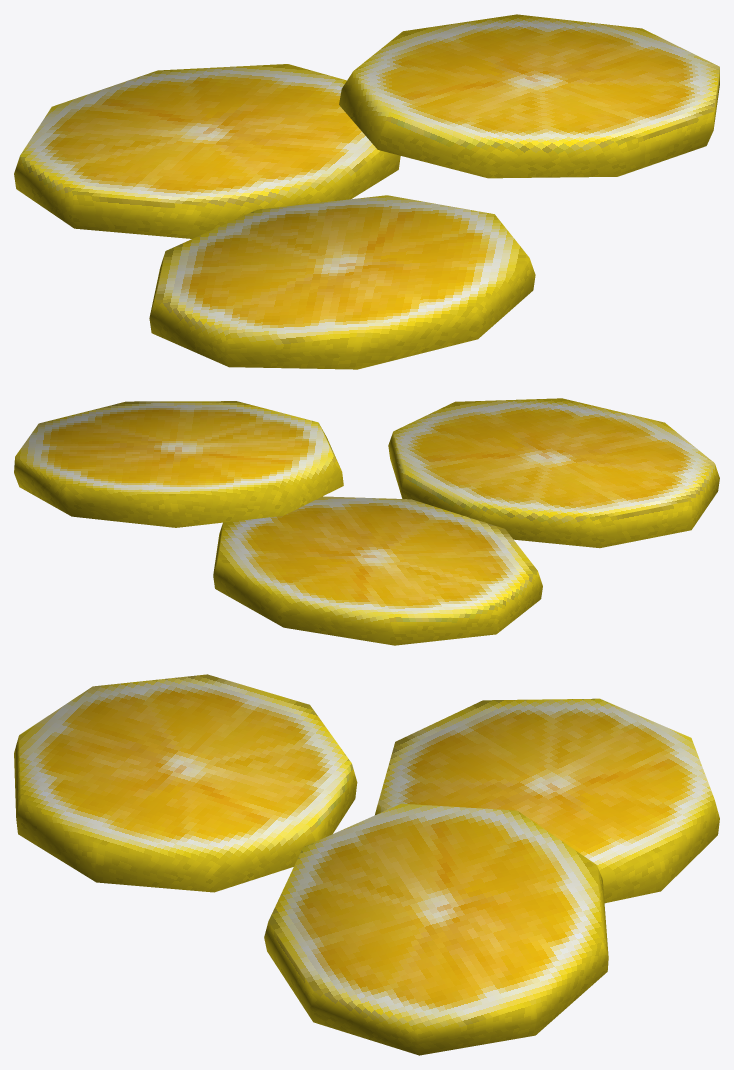
Rendered from Dried_Lemon.fbx.
3 renders of one model, top to bottom at view 1: azimuth 30°, elevation 25°; view 2: azimuth 150°, elevation 25°; view 3: azimuth 270°, elevation 25°, orthographic. The views are drawn at different scales.
Parts seen in each view (by area): view 1: Cookies_Shortbread; view 2: Cookies_Shortbread; view 3: Cookies_Shortbread.
Part boxes in pixels (x1=…): Cookies_Shortbread: x1=14, y1=14, x2=719, y2=369; Cookies_Shortbread: x1=14, y1=398, x2=719, y2=645; Cookies_Shortbread: x1=14, y1=674, x2=719, y2=1055.
Bounding box in the file's own units: 22.55 × 2.37 × 19.09.
